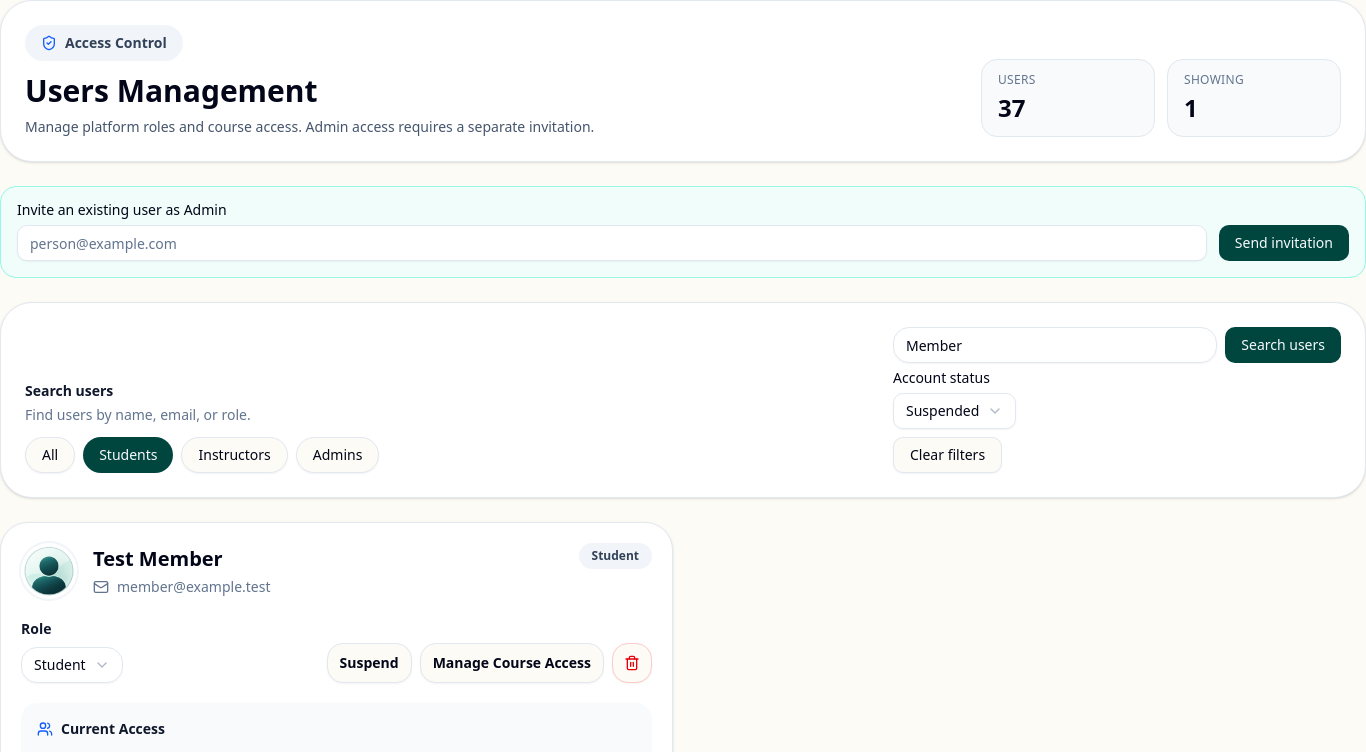
admin user pages › clears all filters and recovers an obsolete page link
The image size is (1366, 752).
Click the button "Clear filters". click: [948, 455]
box: [893,437,1002,473]
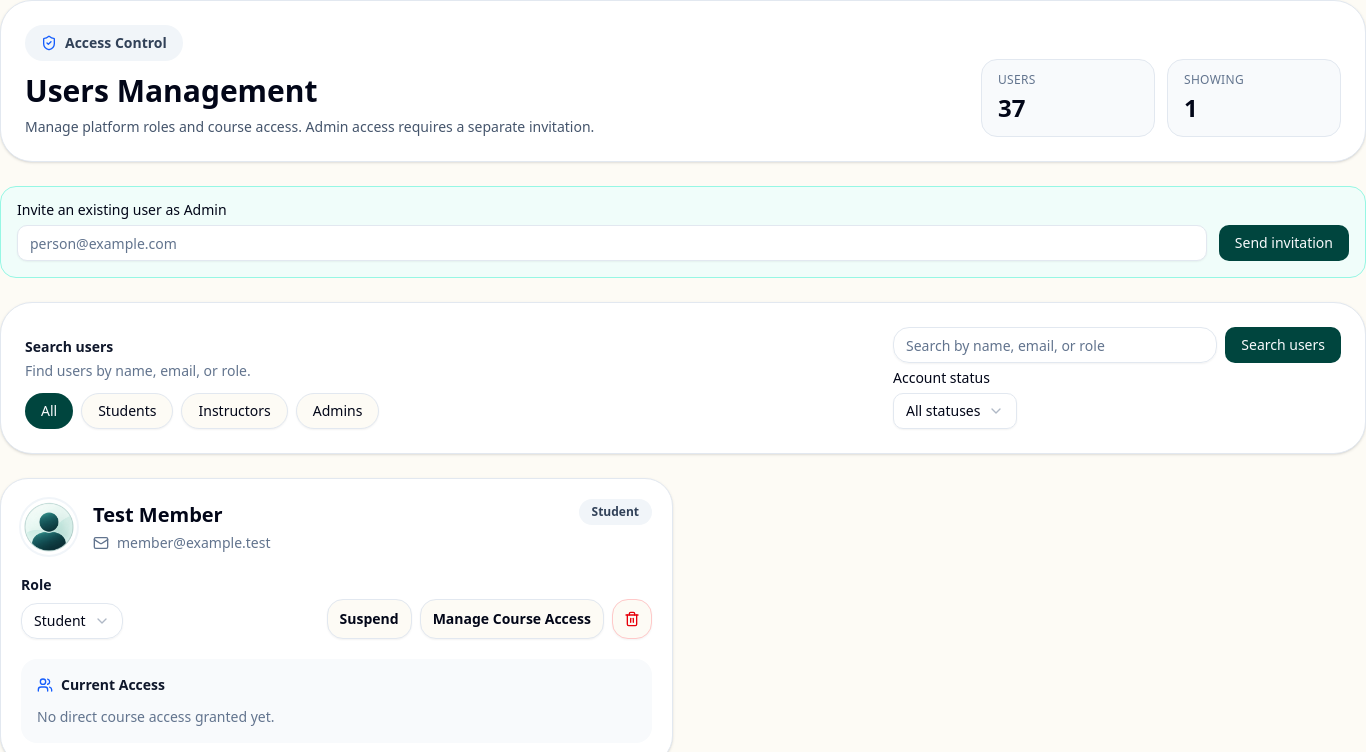
Expected: the field labelled "Search users" is empty, [893,327,1217,363]
